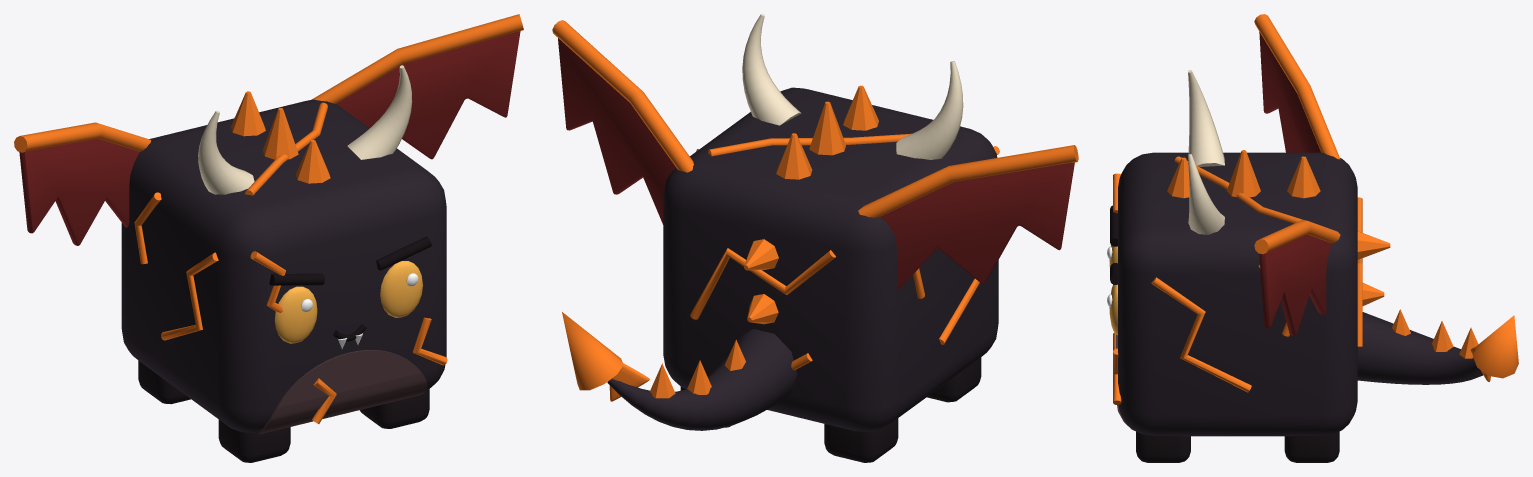
File: InfernoDrake.fbx
3 views of the same model, side by side, from view 1: azimuth 30°, elevation 25°; view 2: azimuth 150°, elevation 25°; view 3: azimuth 270°, elevation 25° (orthographic). The views are drawn at different scales.
Parts seen in each view (by area): view 1: InfernoDrake; view 2: InfernoDrake; view 3: InfernoDrake.
Part boxes in pixels (x1=…): InfernoDrake: x1=14, y1=14, x2=523, y2=462; InfernoDrake: x1=552, y1=14, x2=1078, y2=462; InfernoDrake: x1=1107, y1=14, x2=1518, y2=462.
Size of the model in its own units: 4.52 by 2.87 by 3.43.
1 material, 1 textured.
